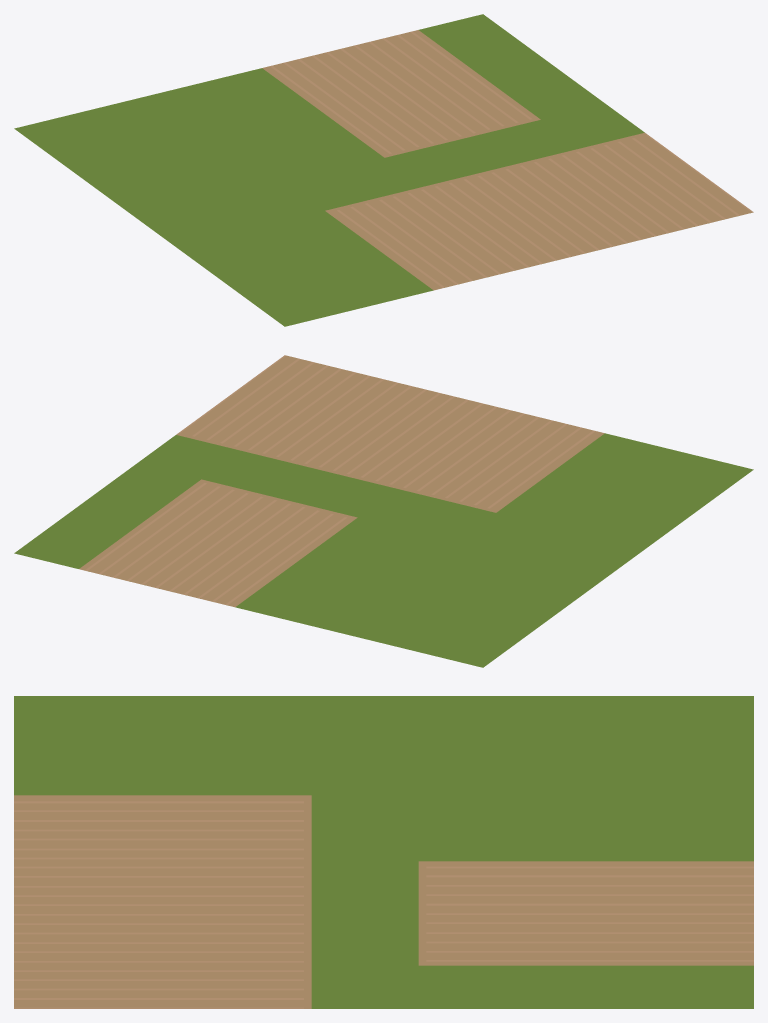
Rendered from crossing-0-2.glb.
The picture shows the model from 3 angles, top to bottom: view 1: azimuth 30°, elevation 25°; view 2: azimuth 150°, elevation 25°; view 3: azimuth 270°, elevation 25°; orthographic projection. The views are drawn at different scales.
Visible parts, largest first — view 1: crossing-0-2; view 2: crossing-0-2; view 3: crossing-0-2.
Part boxes in pixels (x1,y1,x2,y2): crossing-0-2: (14,14,753,326); crossing-0-2: (14,355,753,667); crossing-0-2: (14,696,753,1008).
Size of the model in its own units: 100 by 0.0064 by 100.
